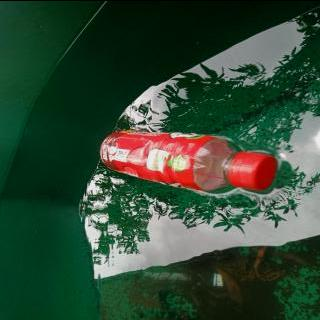bottle: (98, 128, 279, 194)
